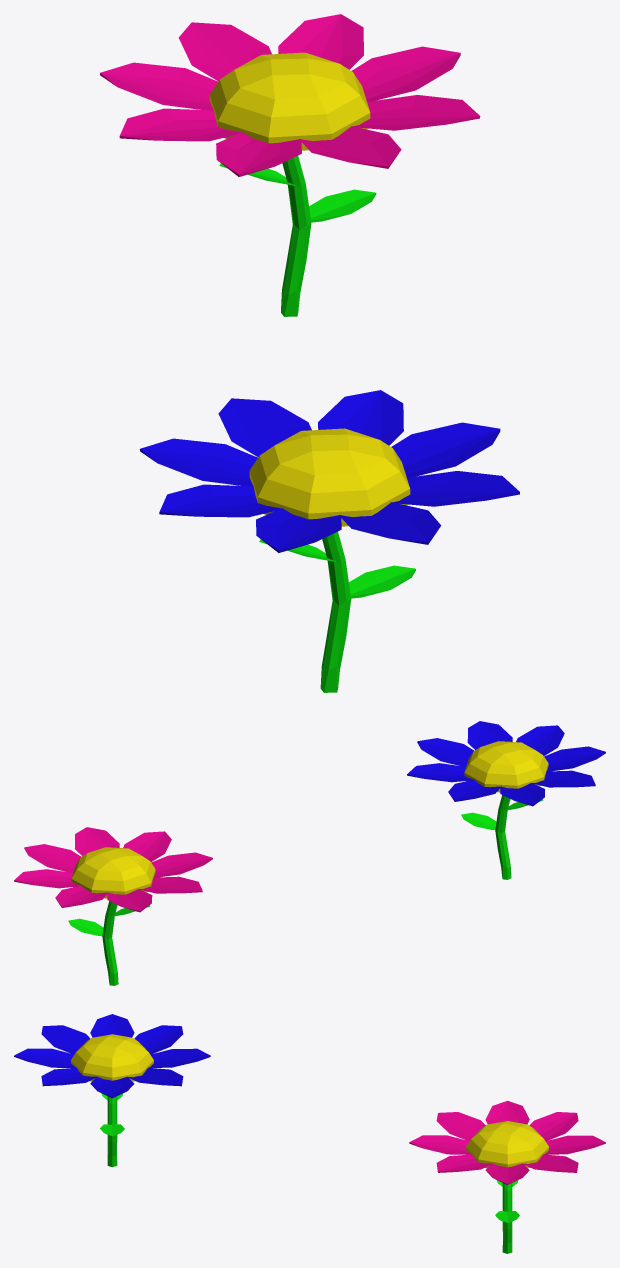
The model's file is flower2.glb.
The picture shows the model from 3 angles, top to bottom: view 1: azimuth 30°, elevation 25°; view 2: azimuth 150°, elevation 25°; view 3: azimuth 270°, elevation 25°; orthographic projection. The views are drawn at different scales.
Parts seen in each view (by area): view 1: Circle.014, Circle.015; view 2: Circle.014, Circle.015; view 3: Circle.015, Circle.014.
Boxes of the visible parts, x1,y1,x2,y2 form: Circle.014: (139,390,519,692); Circle.015: (100,14,480,316); Circle.014: (407,721,605,879); Circle.015: (14,827,212,985); Circle.015: (409,1100,605,1253); Circle.014: (14,1014,210,1167).
Bounding box in the file's own units: 0.659 × 0.2233 × 0.9705.
